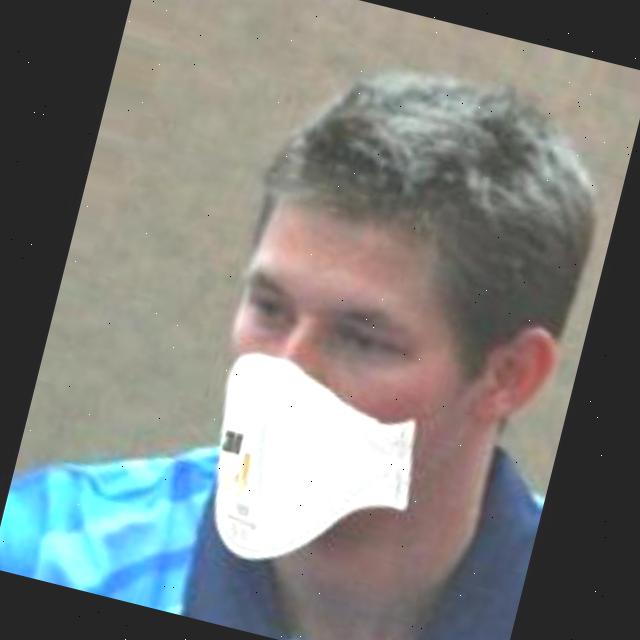suspicion: (192, 78, 620, 625)
